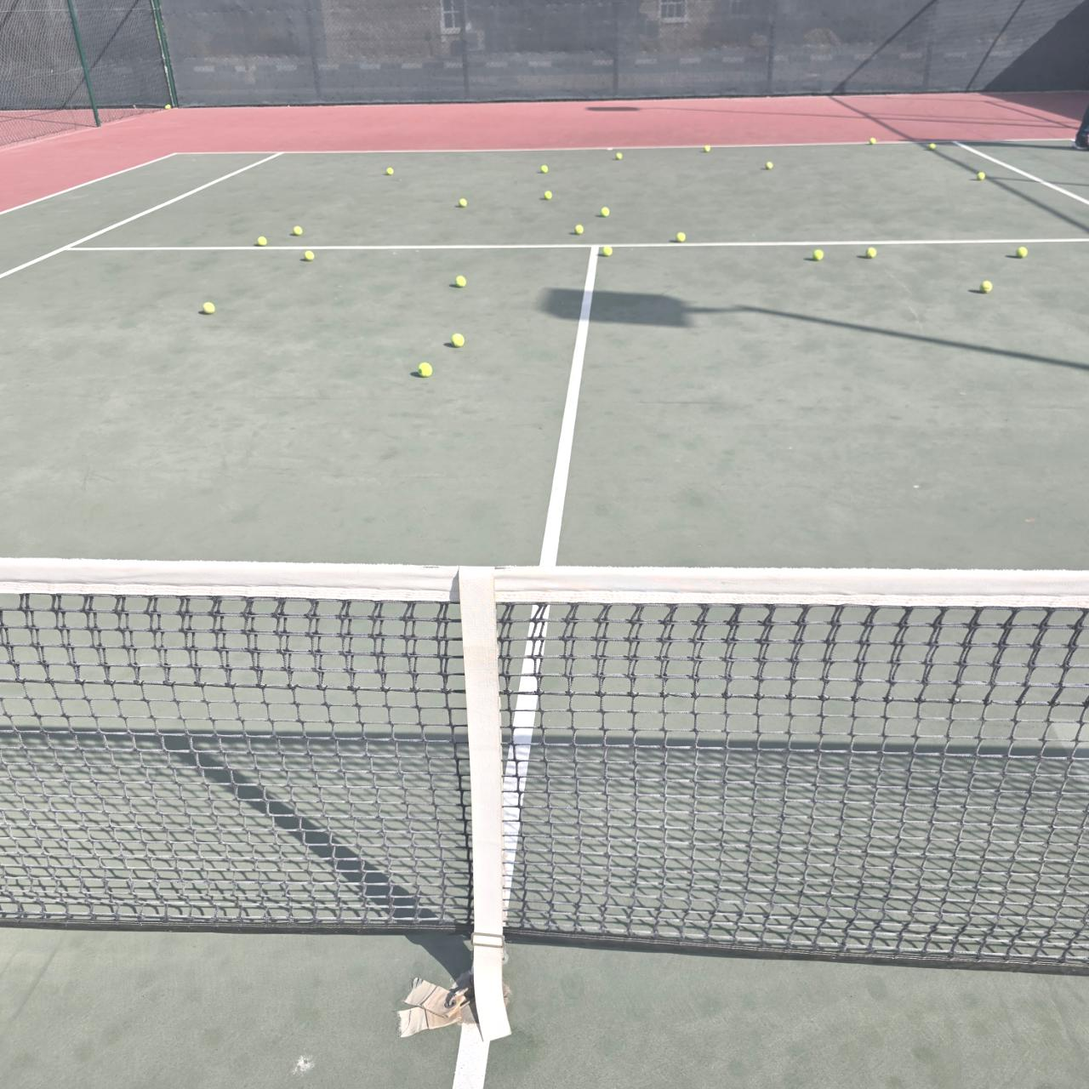tennis-ball: (416, 359, 432, 377), (450, 331, 465, 347), (200, 299, 215, 314), (289, 223, 303, 237), (979, 280, 993, 294), (453, 273, 466, 287), (301, 248, 315, 261), (254, 234, 267, 247), (602, 246, 615, 259), (812, 248, 825, 261), (1016, 246, 1029, 259), (457, 196, 469, 208), (573, 224, 585, 236), (865, 247, 877, 259), (599, 207, 611, 218), (543, 190, 554, 201), (676, 232, 686, 243), (977, 171, 986, 180), (540, 164, 548, 174), (386, 167, 394, 176), (764, 161, 773, 169), (615, 152, 622, 160), (704, 145, 711, 153), (929, 143, 937, 150), (869, 138, 877, 145), (164, 103, 172, 109)
